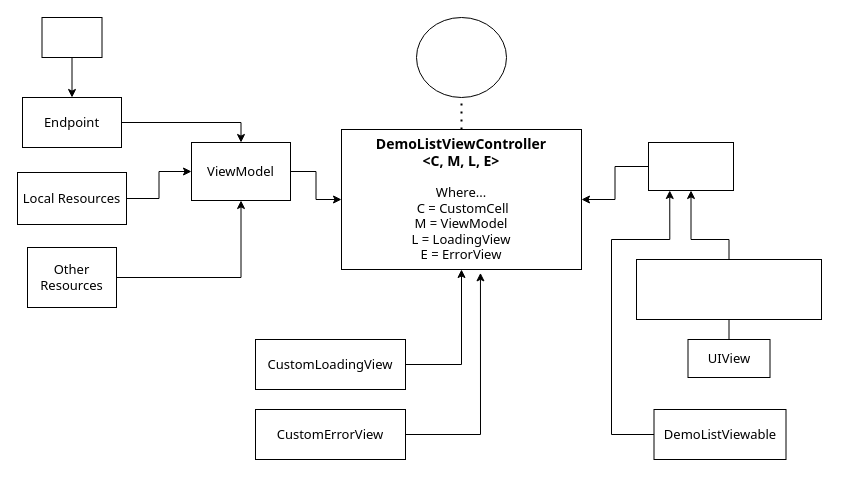
The diagram is 867 pixels wide and 477 high, and some of its shapes have lost their labels. The centre of each missing label's shape, as x and y in pixels:
"API" goes at pixel 71 37.
"BaseCollectionViewCell<T> where T = UIView" goes at pixel 729 289.
"Configuration" goes at pixel 461 57.
"CustomCell" goes at pixel 691 166.
